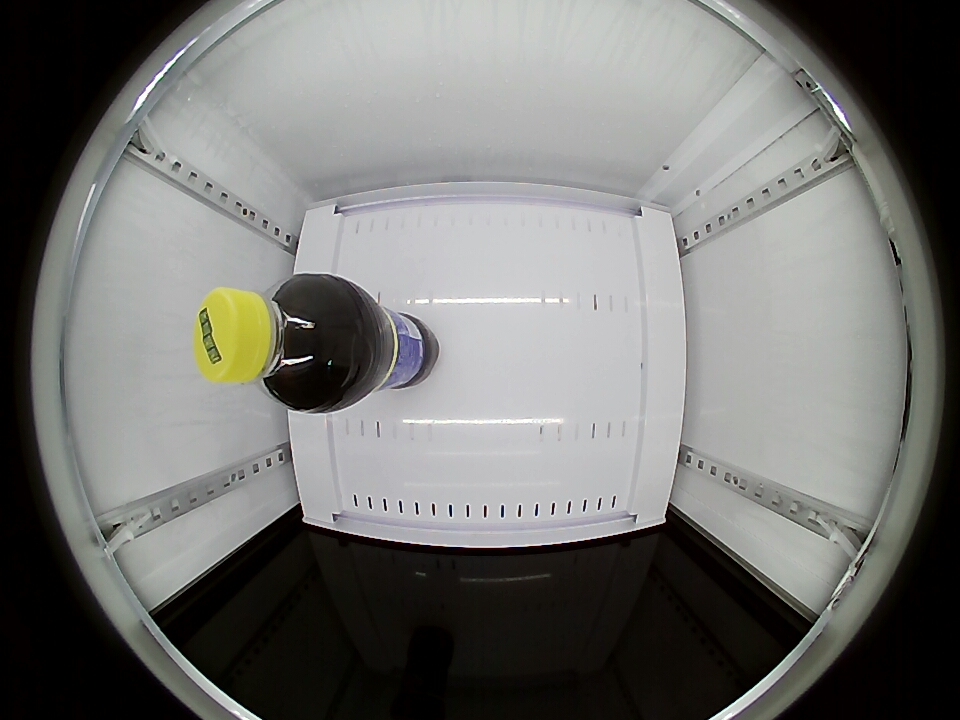baishikele: (195, 276, 351, 409)
